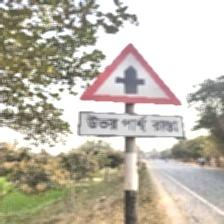Crossroad: (78, 43, 185, 141)
